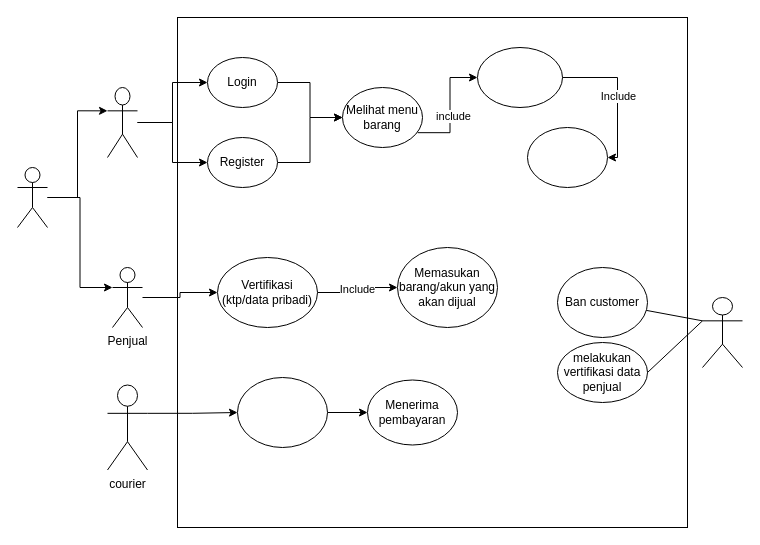
Image size: 760x545. Some labels were removed from this diagram. The shapes that lost their labels are listed below. From the top down, each one's centre as x and y in pixels, then its label:
At (x=519, y=77): "menambahkan ke shopping cart".
At (x=122, y=122): "customer".
At (x=567, y=157): "Melakukan pembayaran".
At (x=32, y=197): "User".
At (x=722, y=332): "admin".
At (x=282, y=412): "mengantarkan Barang".
